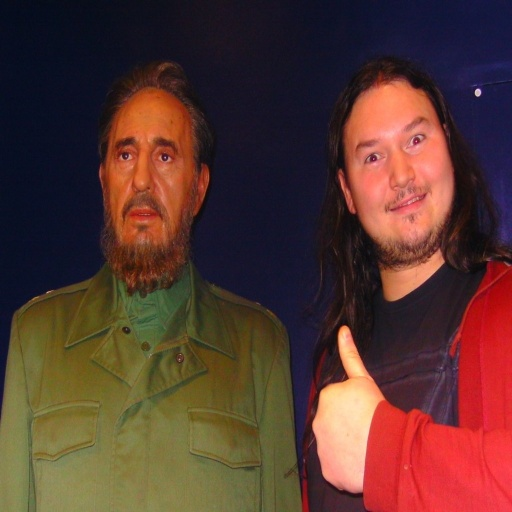hand: (313, 336, 417, 470)
